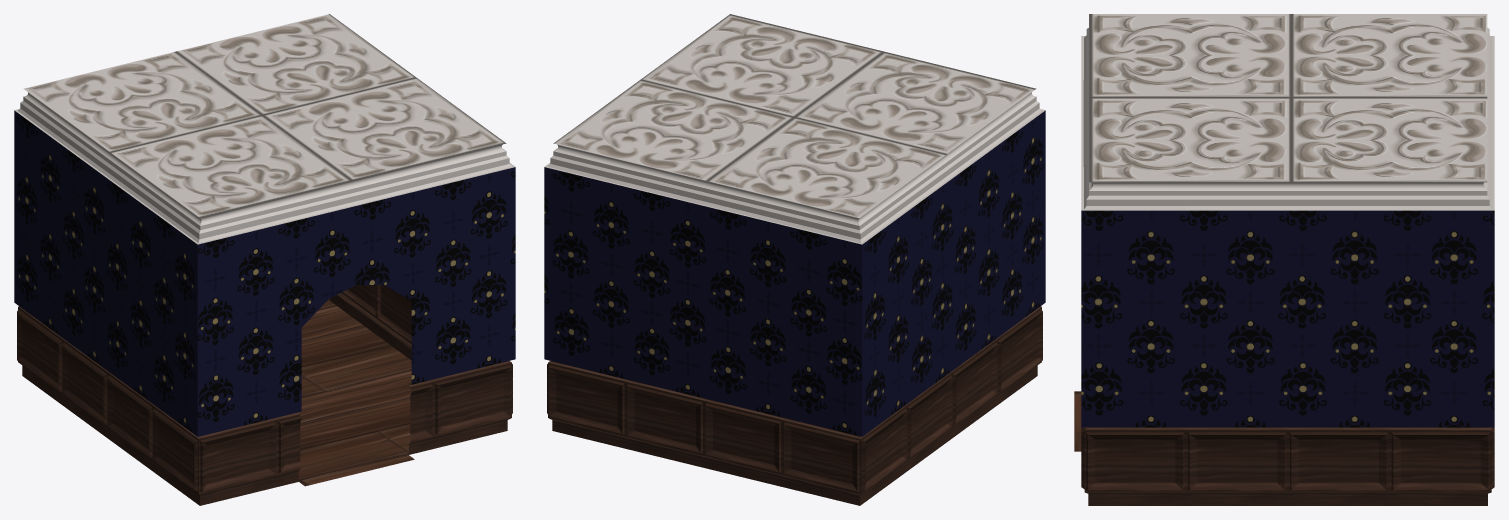
The model's file is Fragment_Room_TEMP.fbx.
The picture shows the model from 3 angles, left to right: view 1: azimuth 30°, elevation 25°; view 2: azimuth 150°, elevation 25°; view 3: azimuth 270°, elevation 25°; orthographic projection. The views are drawn at different scales.
Parts seen in each view (by area): view 1: Fragment_Room; view 2: Fragment_Room; view 3: Fragment_Room.
Boxes of the visible parts, left/top/right/bottom form: Fragment_Room: left=14, top=14, right=515, bottom=505; Fragment_Room: left=544, top=14, right=1045, bottom=505; Fragment_Room: left=1074, top=14, right=1494, bottom=505.
Size of the model in its own units: 403 by 348 by 410.
